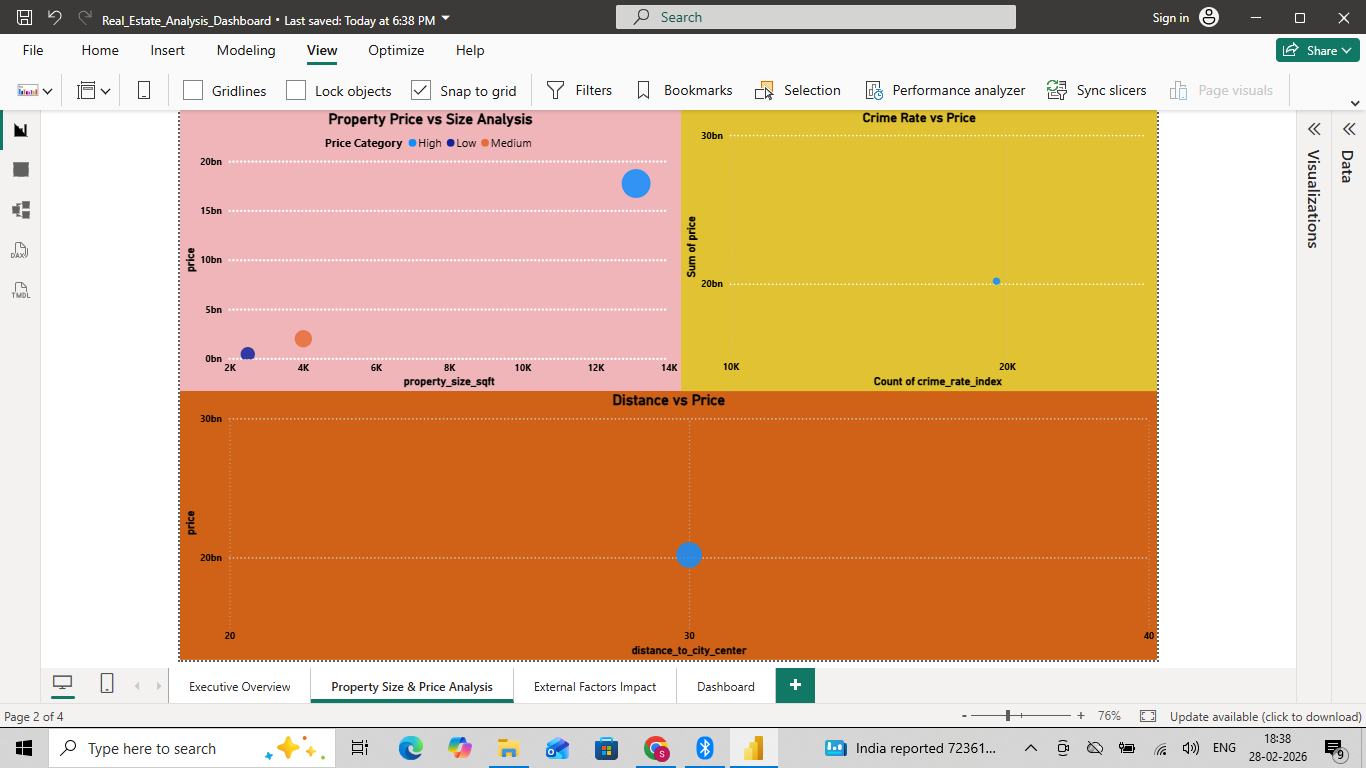

Layout of this report page (visuals, bound fields, positions):
{"tool":"powerbi","page":{"name":"Property Size & Price Analysis","canvas":[1280,720],"ordinal":1},"visuals":[{"type":"scatterChart","title":"Property Price vs Size Analysis","fields":{"X":["CountNonNull(RealEstate.property_size_sqft)"],"Y":["Sum(RealEstate.price)"],"Size":["CountNonNull(RealEstate.bathrooms)"],"Series":["RealEstate.Price Category"]},"box":[16,0,640,368],"z":0},{"type":"scatterChart","title":"Distance vs Price","fields":{"X":["Max(RealEstate.distance_to_city_center)"],"Y":["Sum(RealEstate.price)"]},"box":[16,368,640,352],"z":1000},{"type":"scatterChart","title":"Crime Rate vs Price","fields":{"X":["CountNonNull(RealEstate.crime_rate_index)"],"Y":["Sum(RealEstate.price)"]},"box":[656,0,624,720],"z":2000}]}

Visuals, with their boxes on the page's 1280x720 design canvas (x1, y1, x2, y2). These are canvas units, not pixel positions in the 1366x768 screenshot, which may show the page scaled, cropped or inside an application window:
"Property Price vs Size Analysis" scatterChart: rect(16, 0, 656, 368)
"Distance vs Price" scatterChart: rect(16, 368, 656, 720)
"Crime Rate vs Price" scatterChart: rect(656, 0, 1280, 720)
